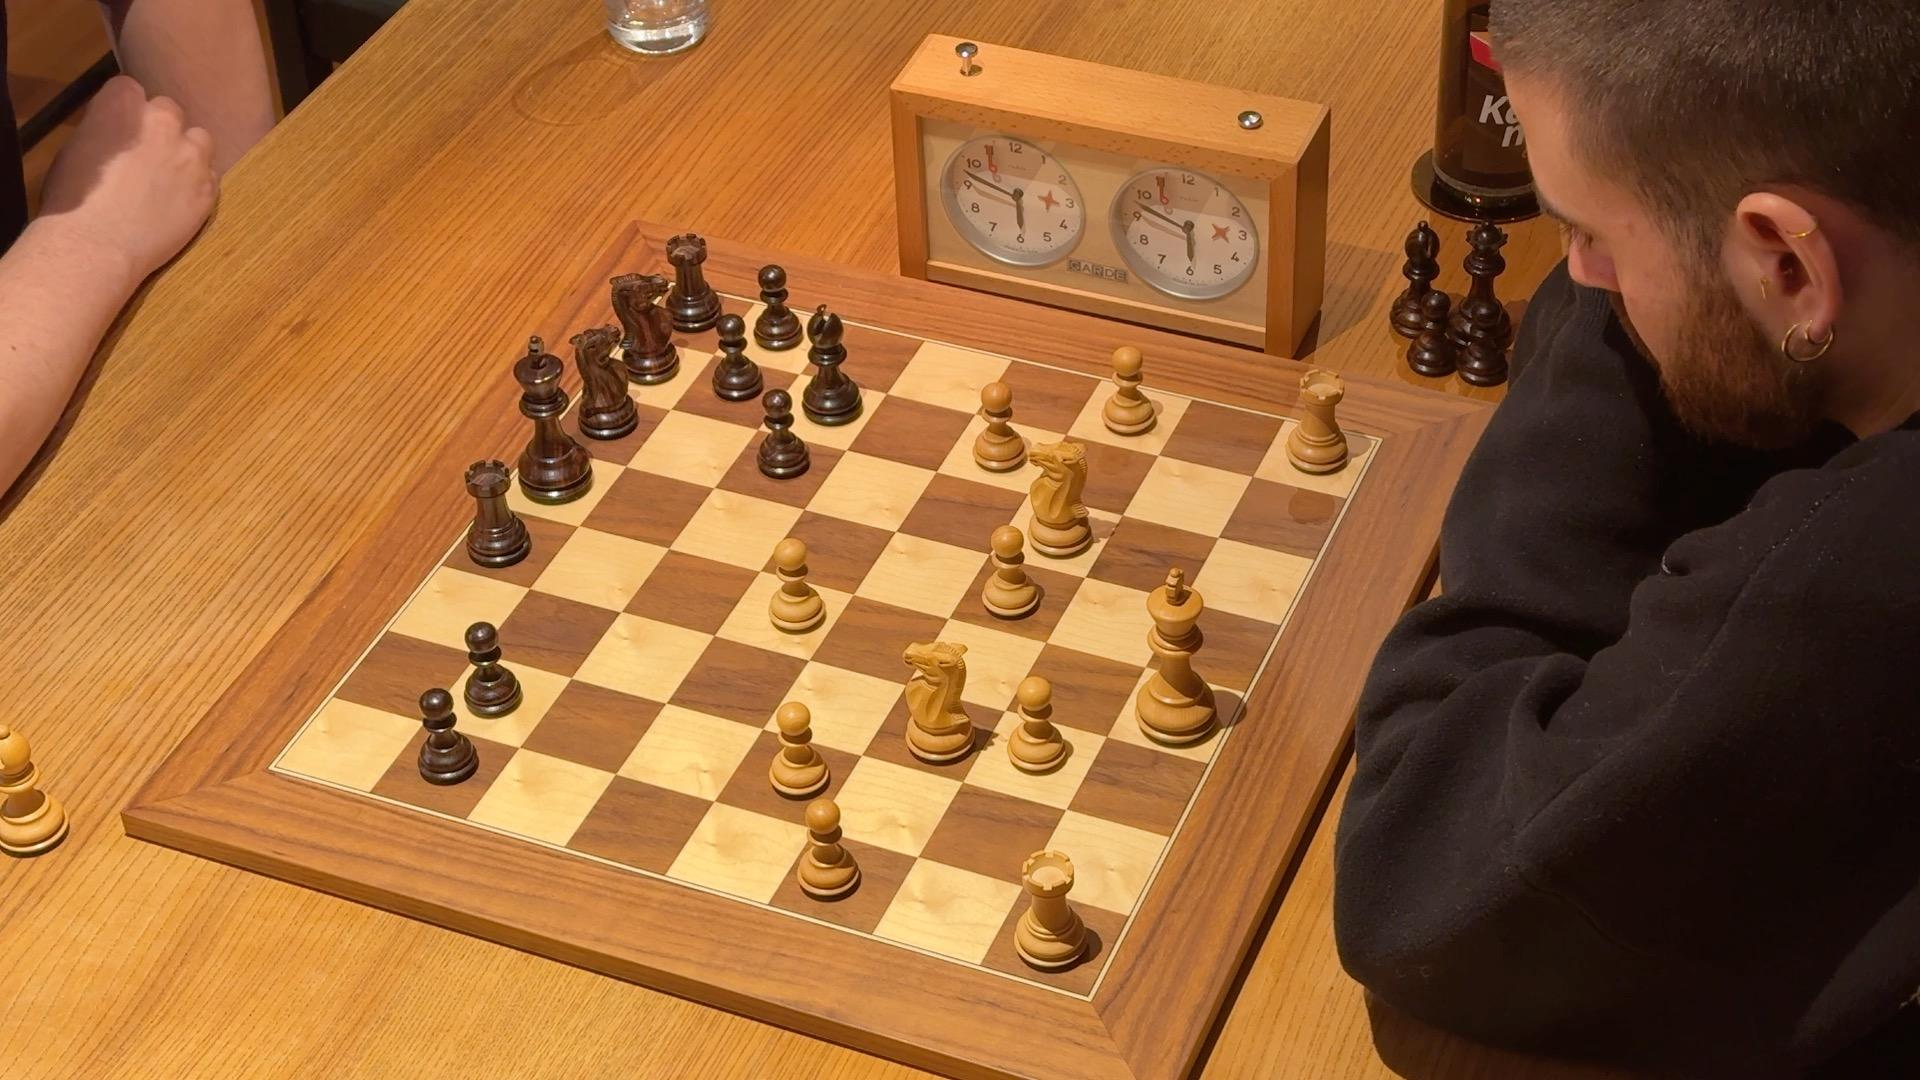Black Bishop: (794, 294, 866, 431)
Black King: (513, 332, 597, 510)
Black Knight: (560, 319, 653, 447), (605, 268, 684, 389)
Black Pawn: (462, 616, 527, 723), (415, 684, 483, 789), (750, 260, 814, 353), (753, 381, 811, 481), (709, 310, 769, 405)
Black Rook: (455, 451, 537, 576), (661, 228, 729, 336)
White King: (1130, 563, 1221, 748)
White Knight: (898, 625, 977, 773), (1017, 434, 1096, 563)
White Pawn: (791, 796, 865, 907), (765, 696, 833, 803), (1006, 674, 1072, 778), (766, 530, 828, 640), (980, 521, 1042, 620), (967, 375, 1026, 475), (1097, 340, 1158, 438)
White Rook: (1014, 847, 1093, 977), (1286, 364, 1356, 480)
